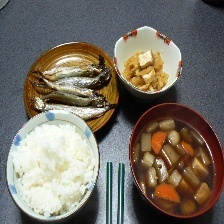sabzi: (128, 113, 219, 217)
